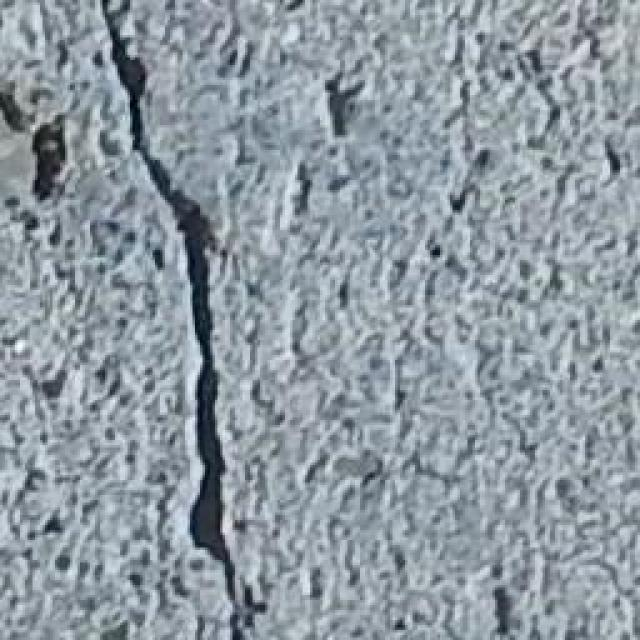concrete-crack: (101, 4, 248, 640), (26, 117, 69, 204), (4, 95, 51, 130)
